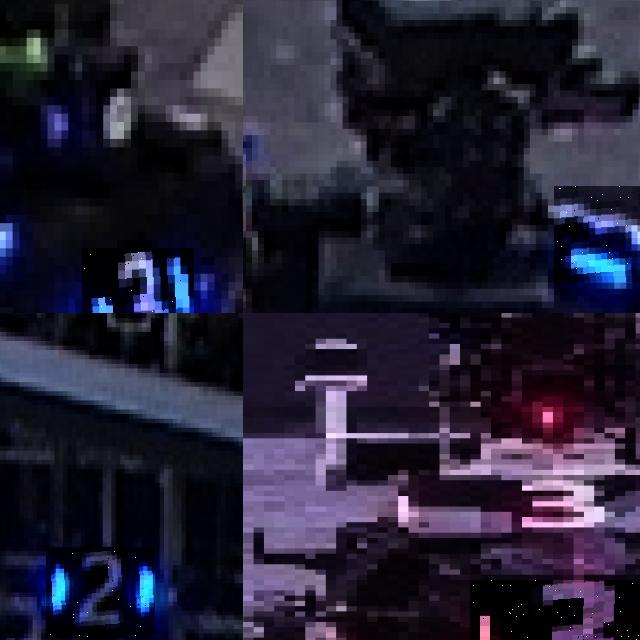B2: (46, 547, 155, 638)
B3: (553, 186, 640, 282), (82, 248, 193, 313)
R3: (470, 580, 640, 640)
